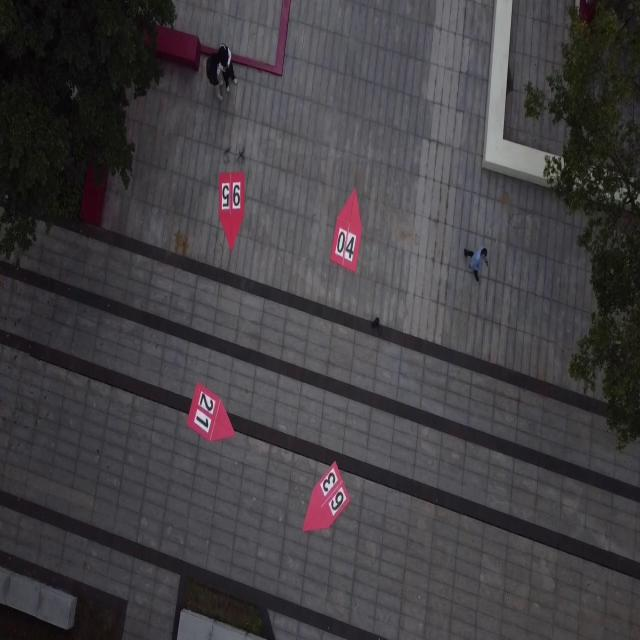-sign-: (302, 462, 351, 534), (186, 384, 235, 444), (330, 186, 362, 273), (218, 170, 244, 250)
